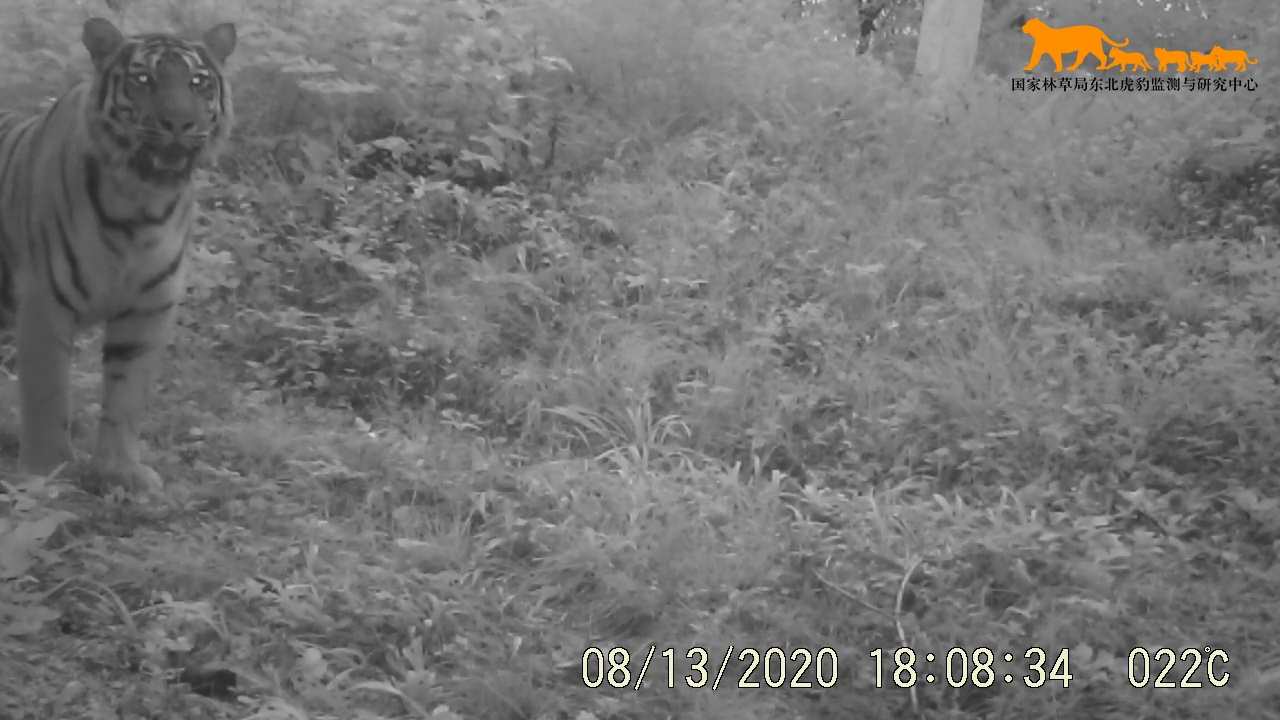Tiger: (2, 9, 290, 518)
